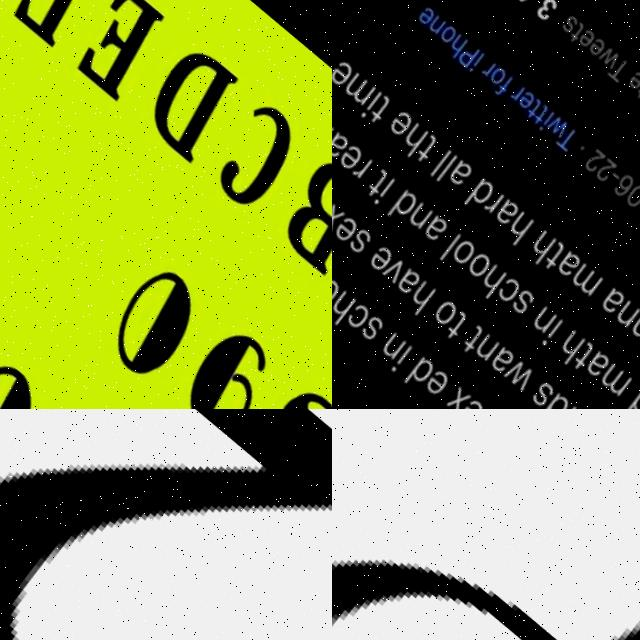0: (47, 221, 239, 409)
2: (0, 409, 332, 640), (607, 157, 633, 187)
8: (201, 343, 332, 409)
9: (130, 284, 304, 409)
A: (547, 236, 579, 271), (574, 335, 605, 368), (590, 272, 621, 305), (487, 186, 518, 219), (440, 148, 471, 181), (415, 203, 445, 237), (479, 334, 509, 366), (387, 258, 417, 290), (332, 122, 347, 155)
C: (487, 263, 518, 297), (336, 294, 366, 327)
D: (378, 177, 417, 220), (393, 344, 431, 388), (456, 165, 493, 205), (526, 377, 565, 409), (612, 372, 640, 409)
E: (359, 234, 392, 269), (413, 357, 445, 392), (382, 99, 412, 133), (332, 133, 361, 167), (332, 205, 356, 240), (332, 49, 354, 83), (582, 21, 608, 49), (572, 13, 598, 41), (448, 386, 478, 409), (511, 75, 535, 101), (621, 53, 640, 81), (411, 0, 436, 21)
F: (490, 61, 513, 89)
H: (544, 316, 580, 356), (517, 215, 553, 255), (396, 271, 431, 310), (468, 251, 503, 290), (391, 112, 426, 151), (496, 199, 530, 237), (332, 280, 352, 323), (441, 22, 468, 51)
I: (531, 305, 559, 338), (380, 336, 406, 367), (367, 168, 393, 199), (355, 83, 381, 114), (533, 98, 553, 122), (464, 41, 483, 64), (543, 393, 569, 409)
K: (548, 395, 583, 409)
L: (430, 221, 459, 256), (428, 143, 457, 177), (424, 139, 450, 170)
M: (590, 347, 627, 385), (562, 249, 599, 287), (338, 63, 374, 100)
N: (604, 283, 636, 318), (371, 322, 402, 356), (464, 321, 494, 354), (522, 292, 552, 325), (399, 191, 429, 223), (620, 296, 640, 329), (424, 4, 447, 28)
O: (422, 286, 455, 321), (442, 225, 474, 260), (460, 241, 488, 271), (434, 11, 458, 37), (484, 52, 507, 78)
P: (332, 550, 570, 640), (452, 30, 481, 61)
R: (476, 178, 502, 207), (346, 147, 370, 174), (476, 46, 496, 69), (505, 71, 524, 93)
S: (339, 217, 370, 251), (350, 305, 381, 338), (519, 367, 550, 400), (502, 275, 531, 307), (556, 0, 579, 24), (461, 398, 492, 409)
T: (533, 226, 565, 262), (451, 312, 482, 347), (407, 122, 438, 157), (562, 326, 592, 361), (435, 299, 465, 333), (362, 85, 392, 119), (549, 111, 578, 143), (602, 41, 631, 72), (359, 159, 387, 191), (563, 6, 587, 33), (521, 85, 542, 110), (527, 91, 548, 115), (630, 61, 640, 88)
V: (373, 246, 404, 279)
W: (494, 345, 531, 383), (594, 31, 620, 58), (542, 102, 567, 128)
X: (435, 375, 465, 408), (332, 195, 340, 226)
